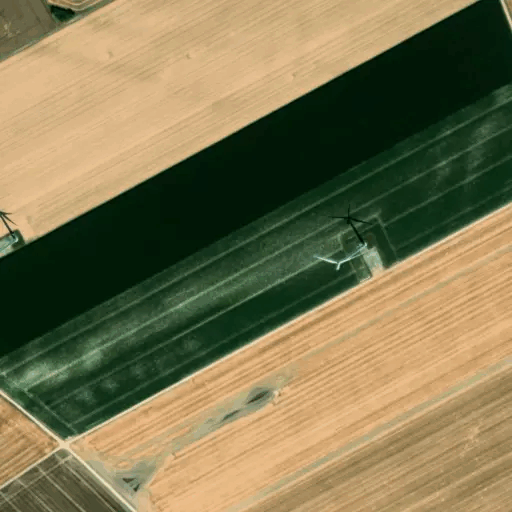wt: (306, 191, 388, 287), (1, 204, 39, 263)
